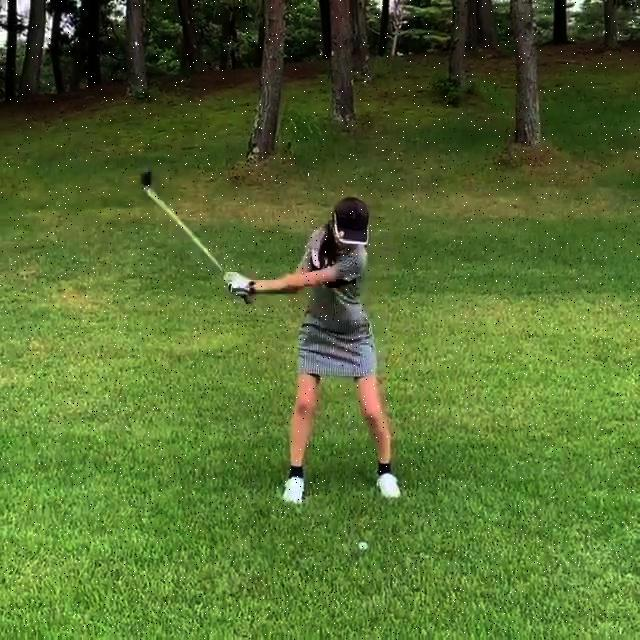ClubHandle: (141, 170, 252, 305)
ClubHead: (141, 170, 153, 186)
GolfBall: (357, 541, 367, 550)
